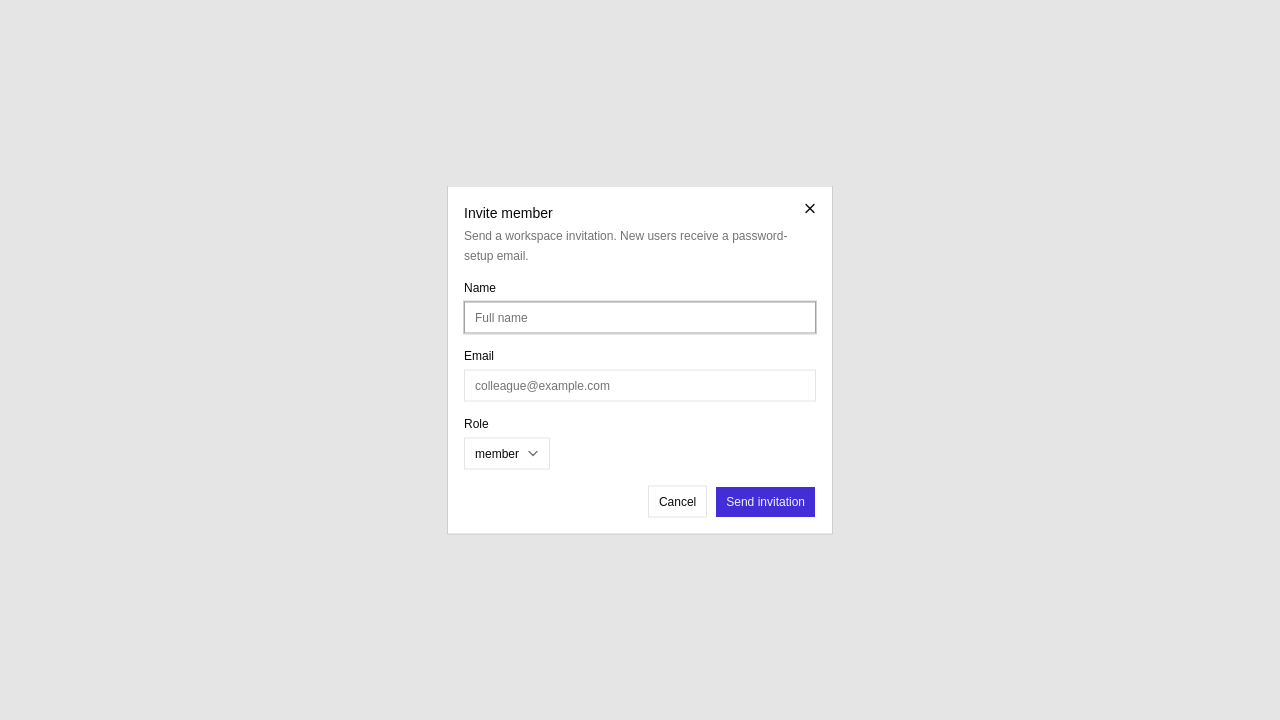
Test: InviteMemberDialog › maps 422 validation errors to form fields
Type "Duplicate User" into the field labelled "Name".
click(640, 318); type("Duplicate User")  # box [464,302,816,334]
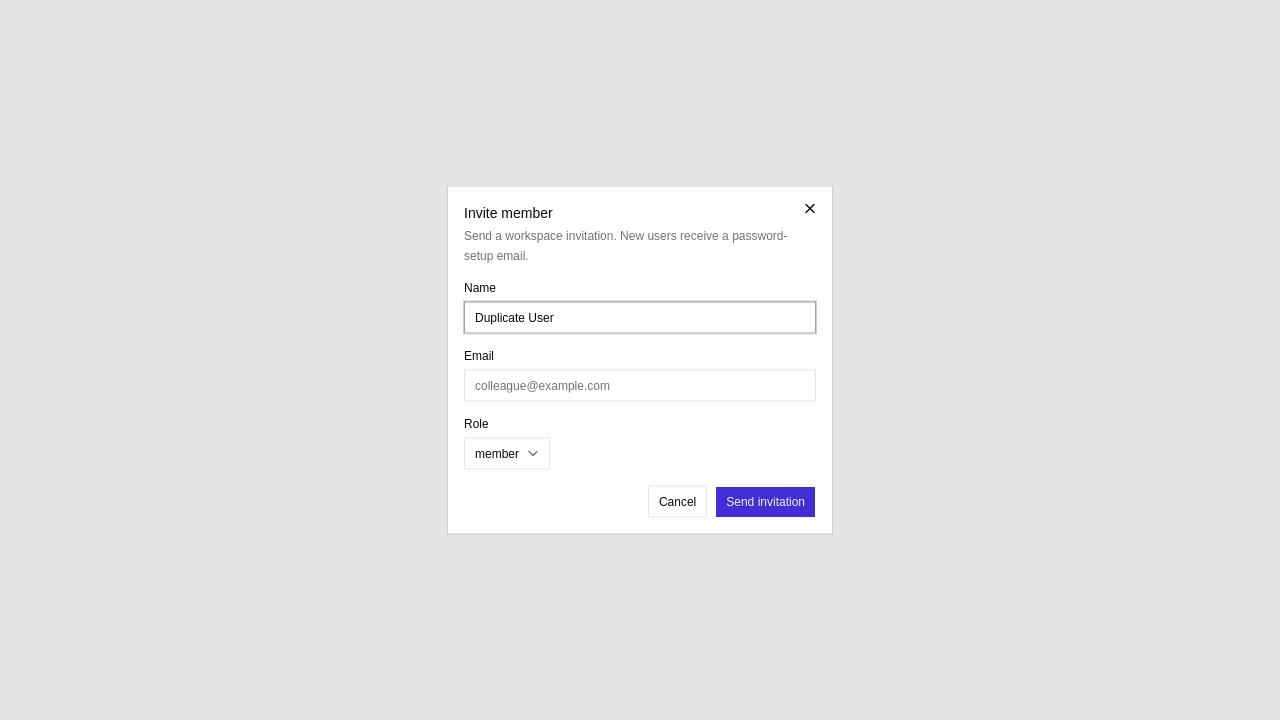
Type "duplicate@studio.test" into the field labelled "Email".
click(640, 386); type("duplicate@studio.test")  # box [464,370,816,402]
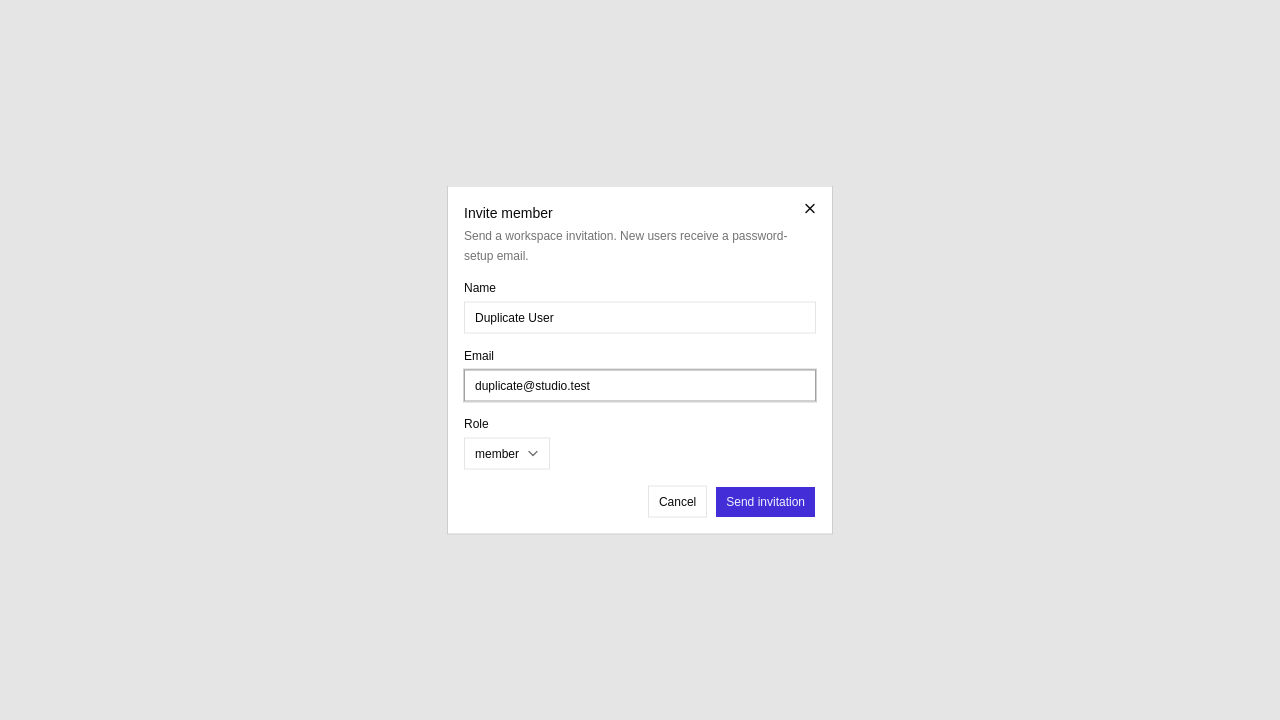
Click the button "Send invitation".
click(766, 502)  # box [715,486,816,518]
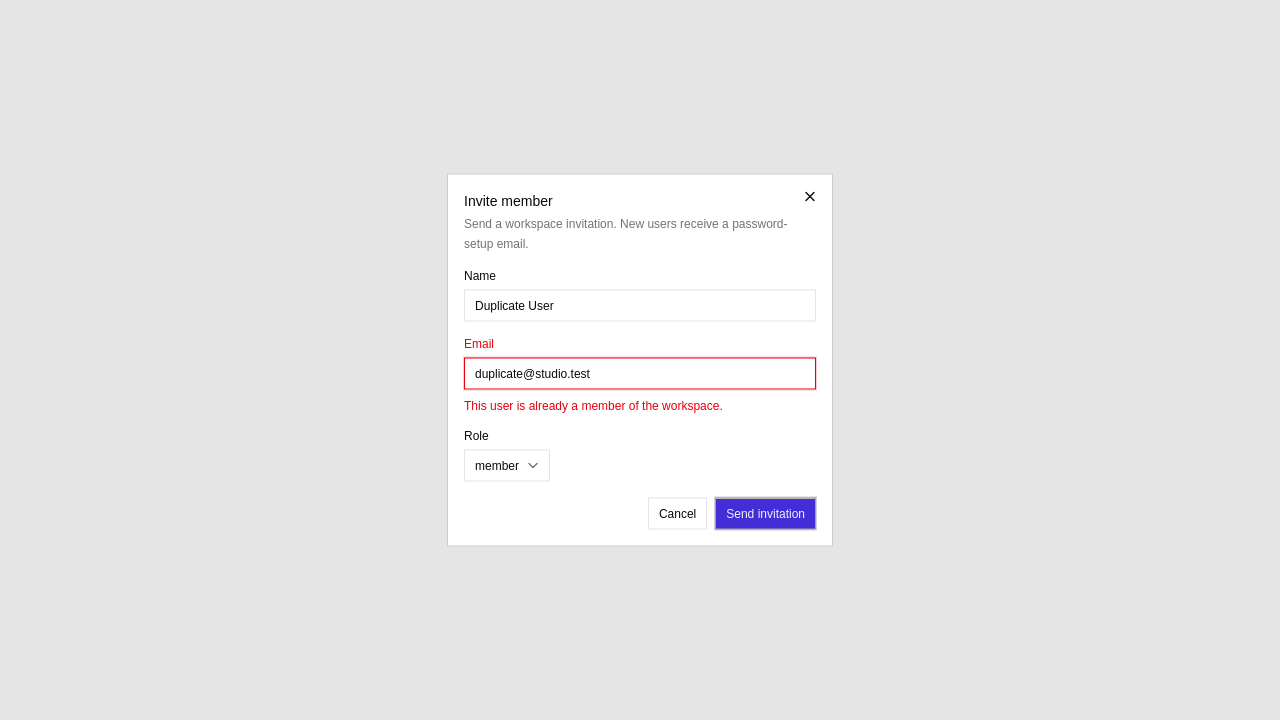
Now the text "This user is already a member of the workspace." is shown, box [464,398,723,412]
